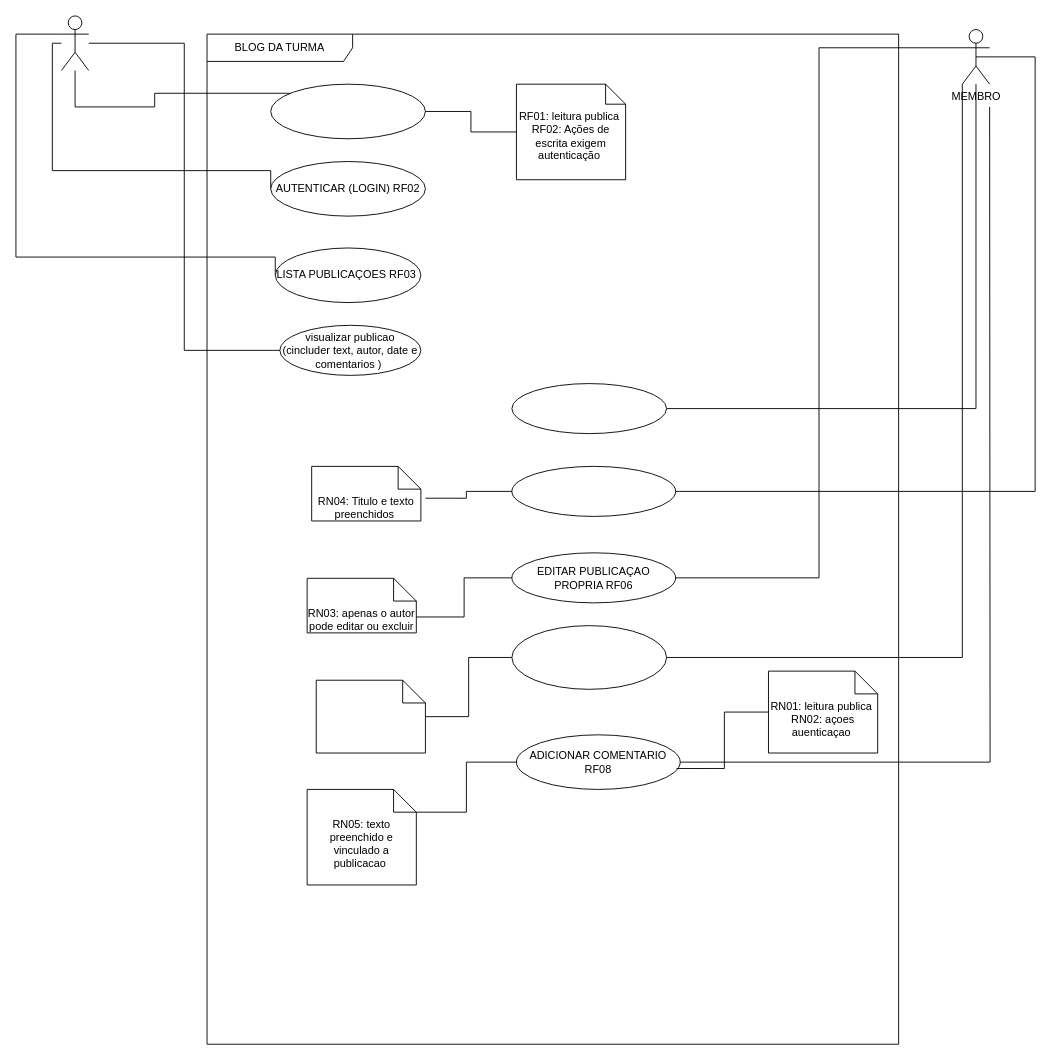
Some shapes in this 1052 by 1060 pixel diagram are drawn without their labels. The box of each missing label's shape, as (x1, y1, x2, y2) in pixels:
CRIAR CONTA RF01: (270, 83, 425, 139)
CRIAR PUBLICAÇOES RF05: (511, 465, 676, 516)
Encerrar sessão (logout) RF02: (511, 383, 667, 434)
excluir publicaçao propria RF07: (511, 625, 667, 689)
RN07: ao excluir, os comentarios tambem sao nexcluidos: (315, 679, 425, 753)
VISITANTE: (61, 15, 89, 71)
